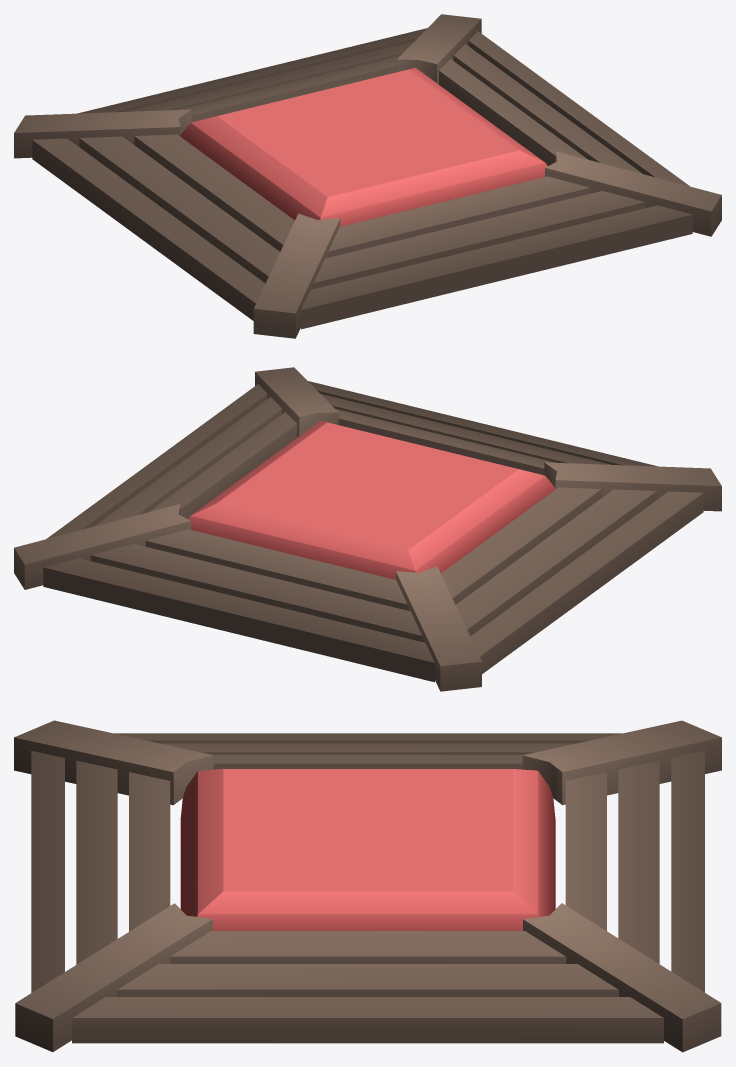
The model's file is m_PressurePlate.fbx.
3 renders of one model, top to bottom at view 1: azimuth 30°, elevation 25°; view 2: azimuth 150°, elevation 25°; view 3: azimuth 270°, elevation 25°, orthographic. The views are drawn at different scales.
Parts seen in each view (by area): view 1: PressurePlate, PressurePlateButton; view 2: PressurePlate, PressurePlateButton; view 3: PressurePlate, PressurePlateButton.
Boxes of the visible parts, box(x1,y1,x2,y2) form: PressurePlate: box(14, 14, 721, 338); PressurePlateButton: box(180, 67, 547, 226); PressurePlate: box(14, 367, 721, 691); PressurePlateButton: box(188, 421, 555, 579); PressurePlate: box(14, 720, 721, 1052); PressurePlateButton: box(180, 769, 555, 930).
Bounding box in the file's own units: 102 × 11.61 × 102.
